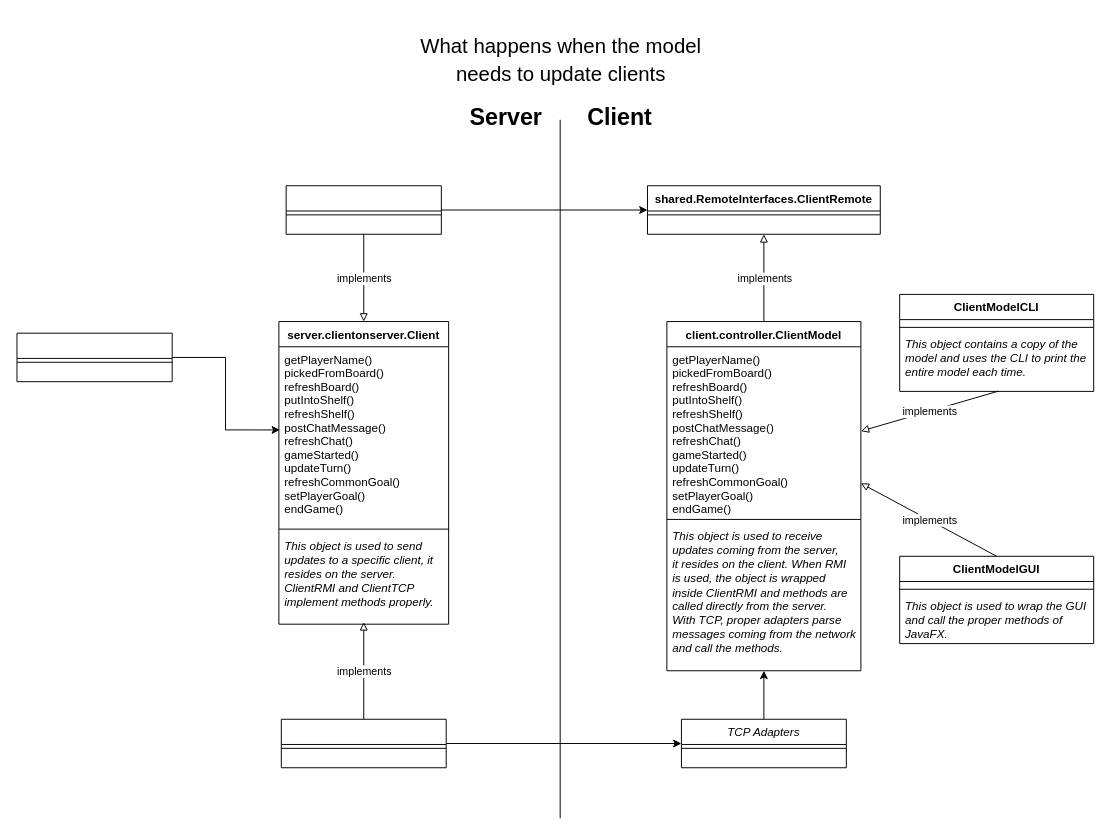
This 1111x836 diagram has some shape labels left out. The shapes that lost their labels are listed below. From the top down, each one's centre as x and y in pixels, then its label:
At point 363,209: "clientonserver.ClientRMI".
At point 94,357: "VirtualView".
At point 363,743: "clientonserver.ClientSocket".
